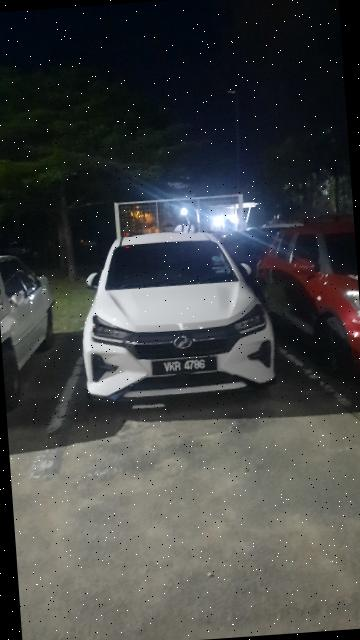License_Plate: (150, 352, 219, 378)
car: (72, 223, 286, 416), (256, 216, 360, 384)
